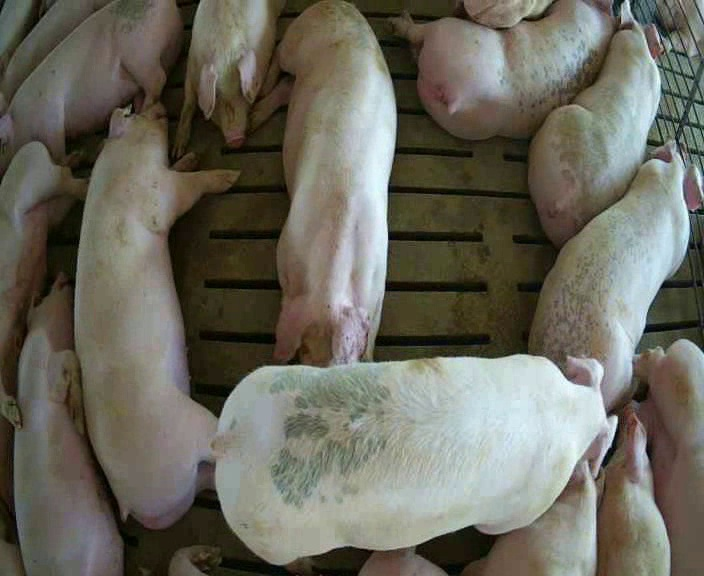pig: (216, 355, 617, 574), (75, 101, 238, 528), (248, 2, 395, 365), (530, 140, 703, 409), (528, 3, 663, 246), (14, 275, 121, 574), (0, 141, 86, 505), (393, 2, 620, 139), (0, 2, 182, 169), (172, 2, 281, 158), (463, 459, 604, 574), (598, 405, 669, 574), (0, 2, 106, 112)
